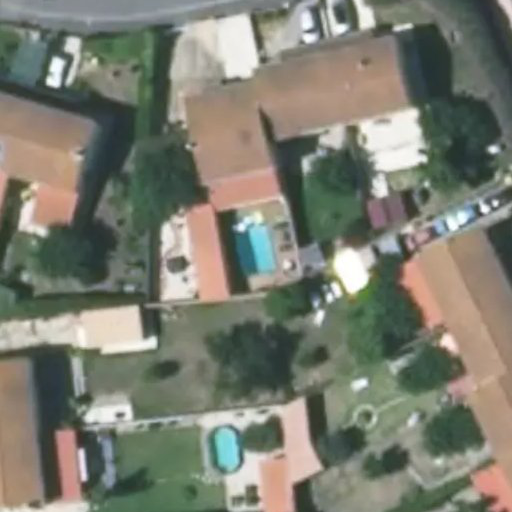pool: (233, 215, 278, 269)
